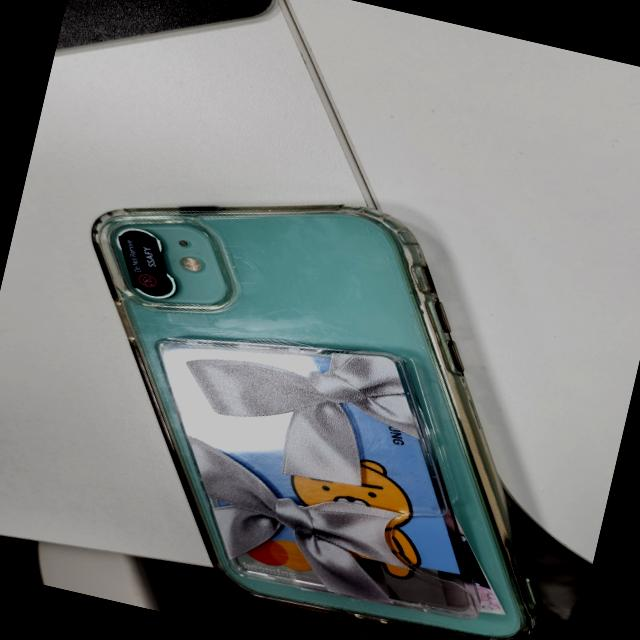phone: (15, 147, 625, 640)
sticker: (105, 230, 178, 294)
